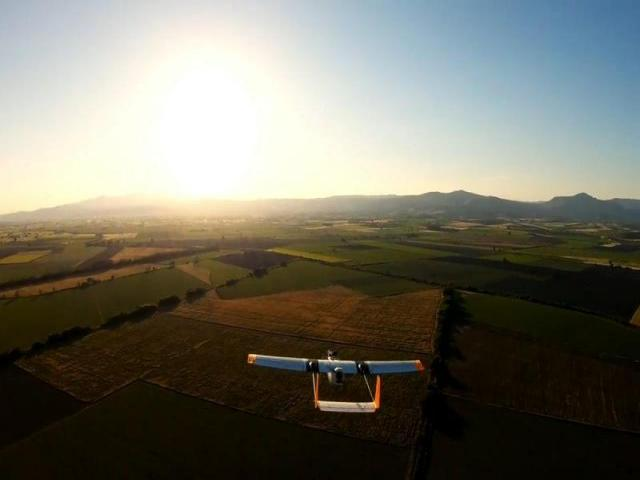hedef: (240, 335, 433, 421)
